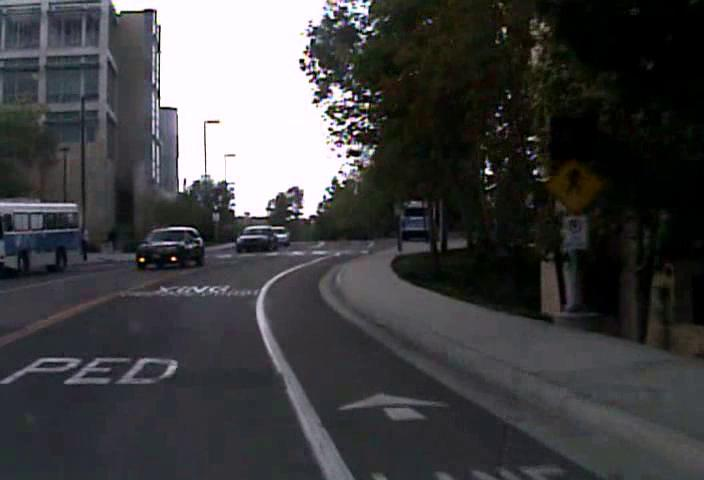pedestrianCrossing: (544, 156, 602, 213)
